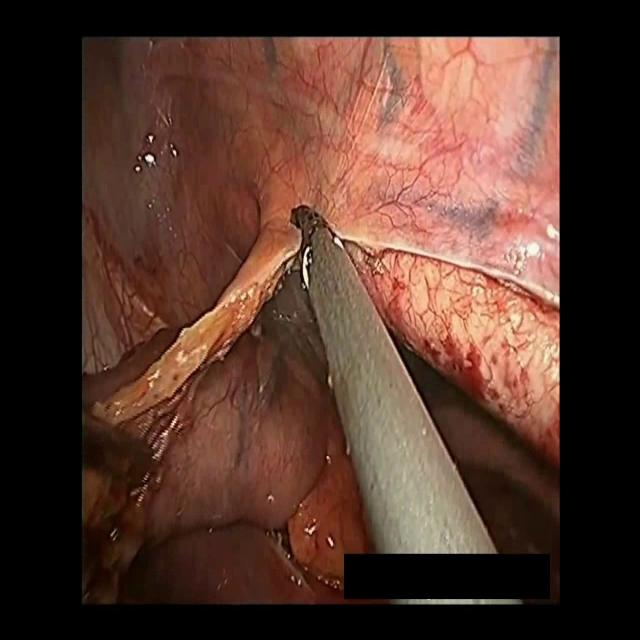surgical-area: (83, 36, 558, 604)
surgical-tool: (295, 206, 498, 552)
